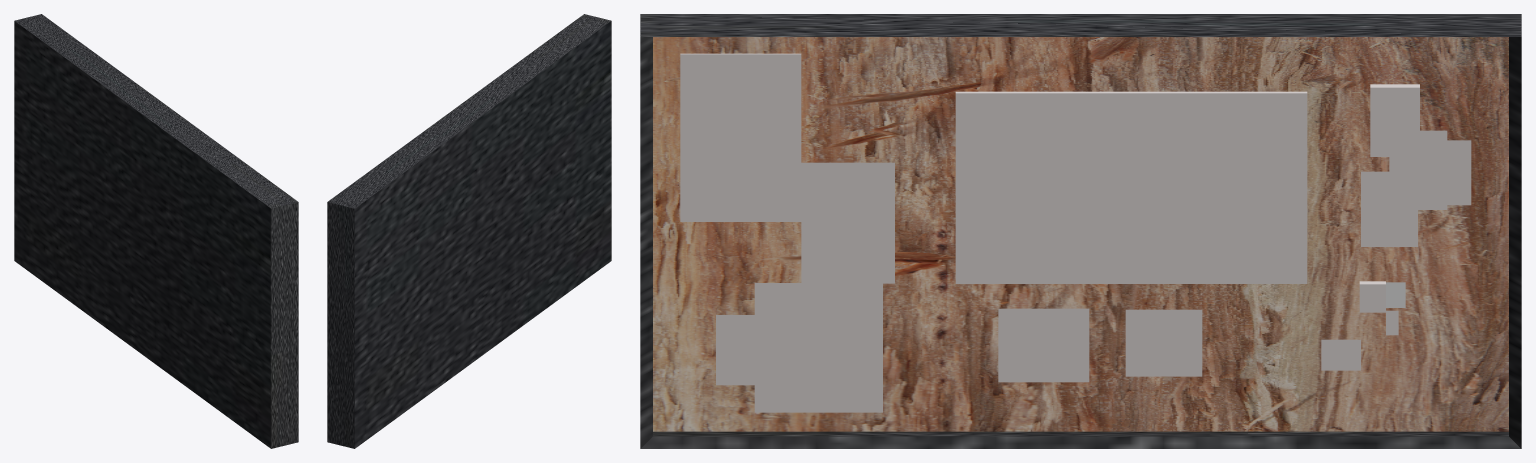
Rendered from Crockboard_Modified.fbx.
3 views of the same model, side by side, from view 1: azimuth 30°, elevation 25°; view 2: azimuth 150°, elevation 25°; view 3: azimuth 270°, elevation 25° (orthographic). The views are drawn at different scales.
Visible parts, largest first — view 1: Cube; view 2: Cube; view 3: Cube.001, Cube.004, Cube, Cube.002, Cube.016, Cube.003, Cube.013, Cube.015, Cube.014, Cube.007, Cube.008, Cube.005 (+3 smaller).
Boxes of the visible parts, x1,y1,x2,y2 form: Cube: [14, 14, 298, 448]; Cube: [327, 14, 611, 448]; Cube.001: [653, 37, 1508, 431]; Cube.004: [955, 91, 1307, 283]; Cube: [640, 14, 1521, 448]; Cube.002: [680, 53, 801, 221]; Cube.016: [754, 283, 882, 412]; Cube.003: [801, 162, 894, 283]; Cube.013: [998, 308, 1089, 382]; Cube.015: [716, 315, 790, 385]; Cube.014: [1125, 309, 1202, 376]; Cube.007: [1389, 130, 1447, 209]; Cube.008: [1361, 171, 1417, 246]; Cube.005: [1370, 84, 1419, 156].
Bounding box in the file's own units: 46.78 × 391 × 758.
3 materials, 2 textured.
